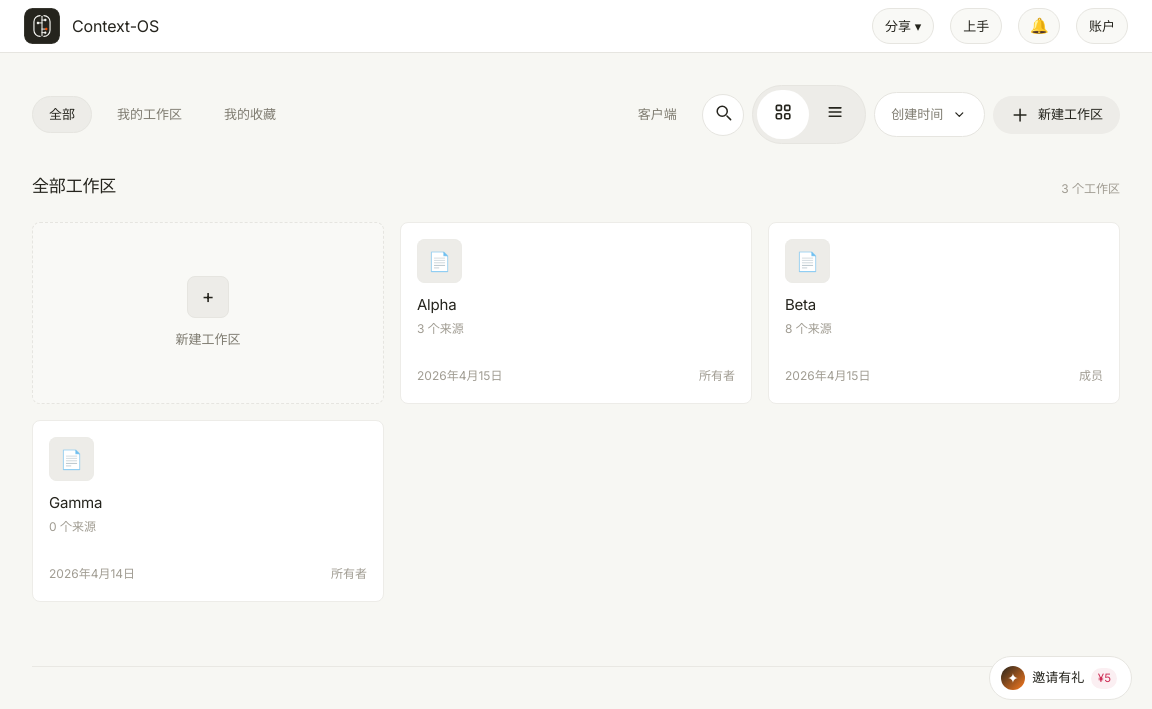
Test: DashboardSurface › renders card view by default and makes workspace content clickable outside the actions menu
expect the number of cells is 3: met, box [400,222,752,404]; [768,222,1120,404]; [32,420,384,602]
expect the button "我的工作区" is shown: met, box [100,96,199,133]
Click the 2nd button named "列表".
click(835, 115)  # box [809,90,861,139]
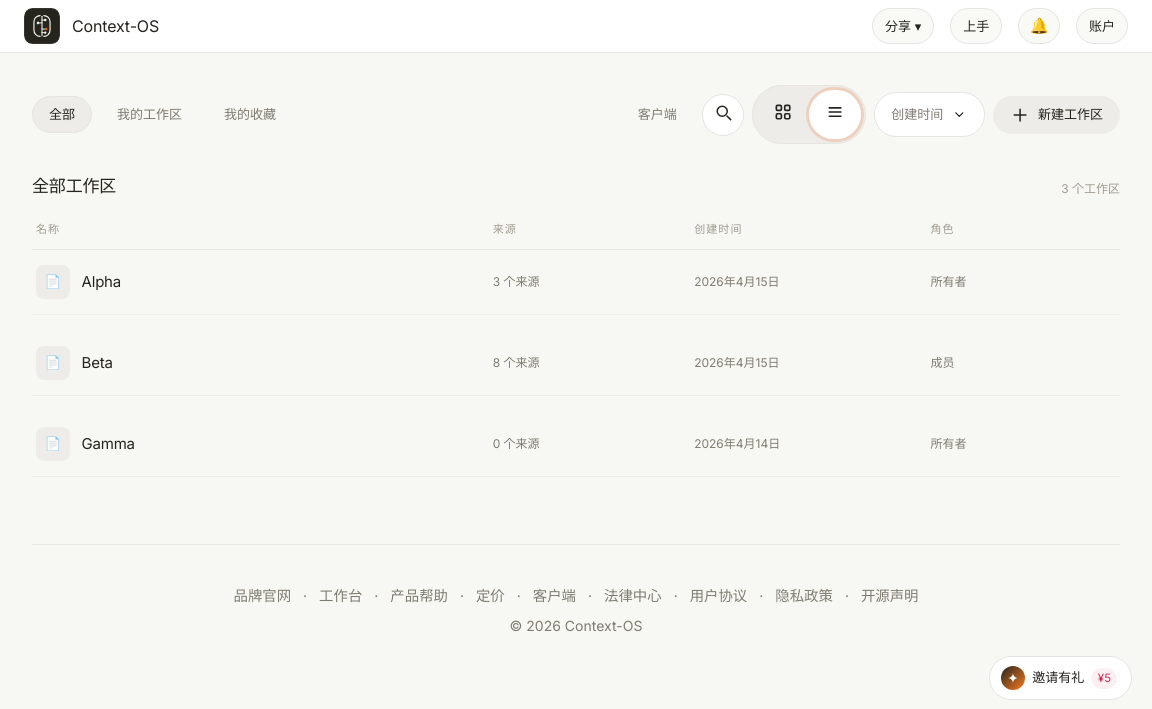
expect the number of list items is 3: met, box [32,250,1120,315]; [32,331,1120,396]; [32,412,1120,477]
